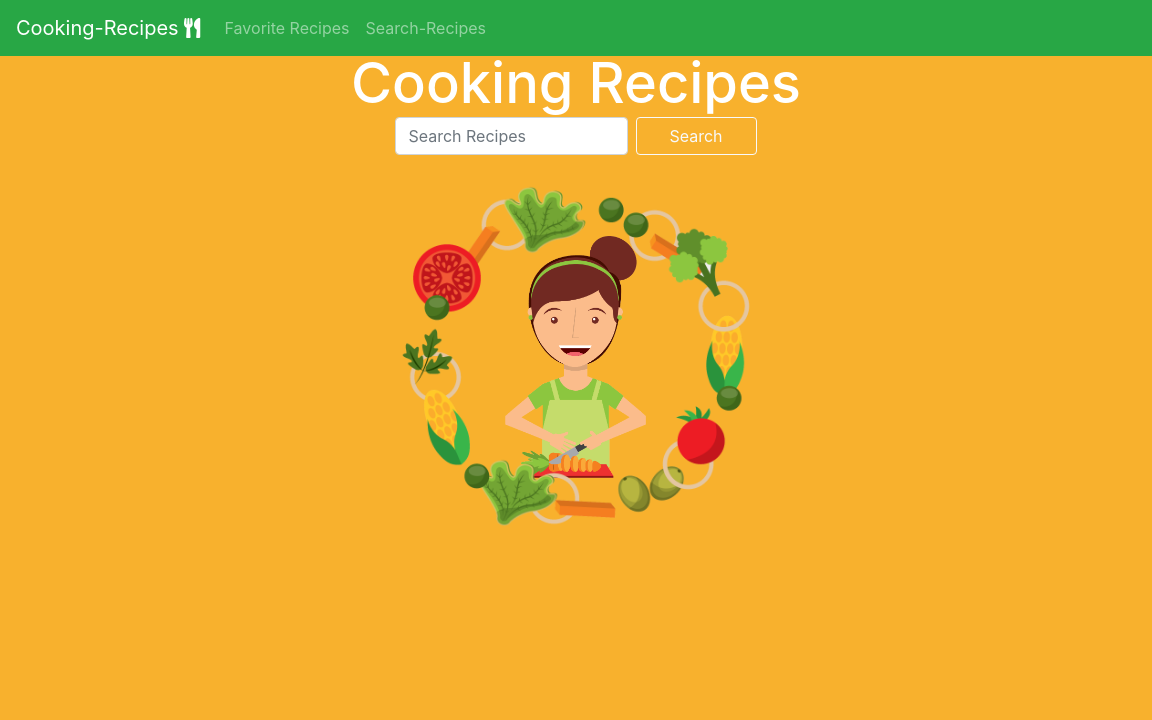
Test: should render waiting component while searching for pizza recipes
The image size is (1152, 720).
Type "pizza" into the field with test id "FieldText" at (512, 136), box x1=396 y1=117 x2=628 y2=155
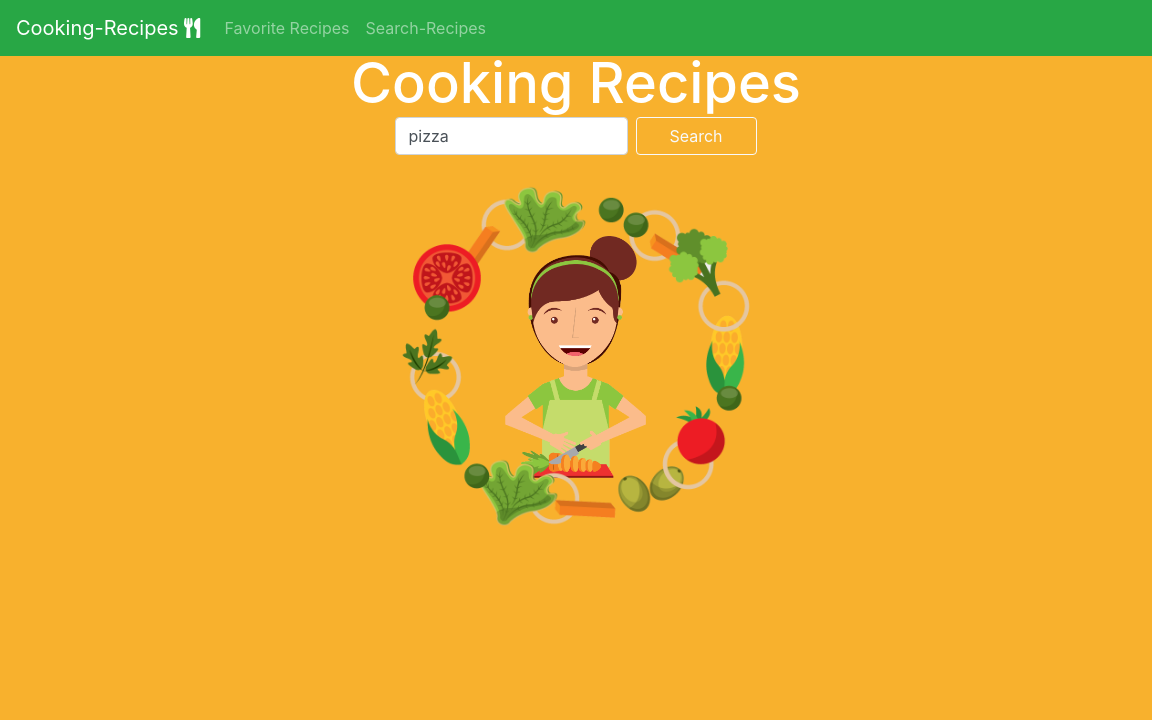
Click the button with test id "SearchButton" at (696, 136), box x1=636 y1=117 x2=756 y2=155
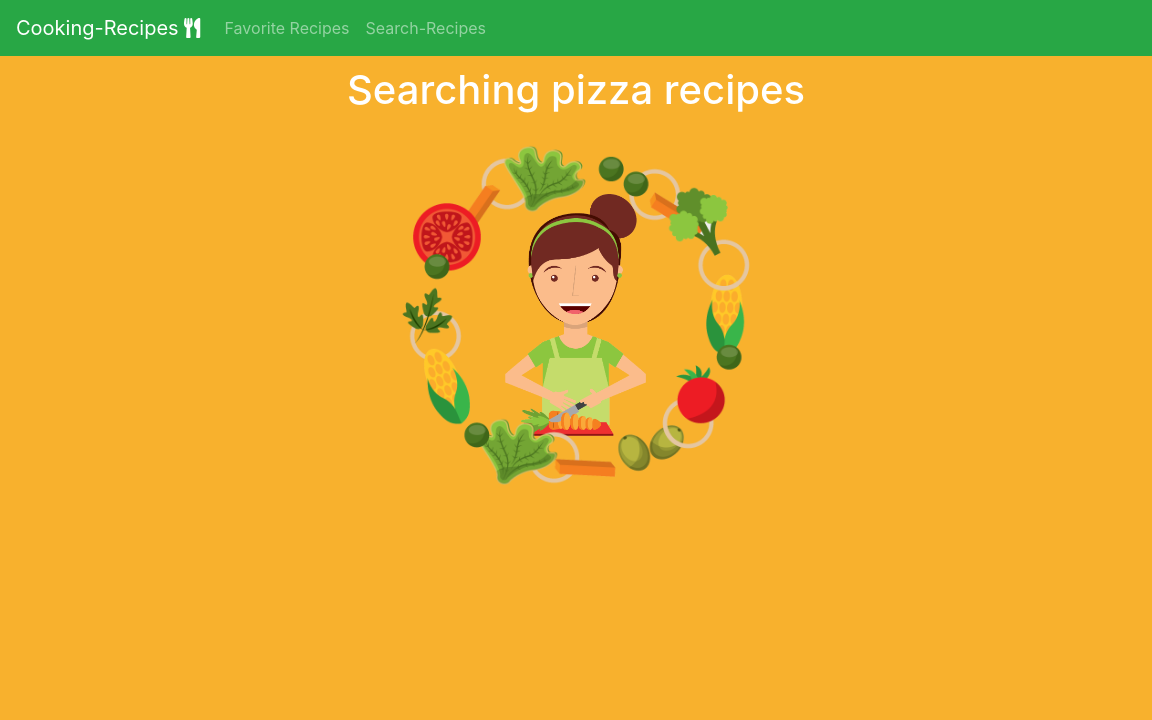
Check: the text "Searching pizza recipes" is shown, box x1=347 y1=66 x2=805 y2=114
